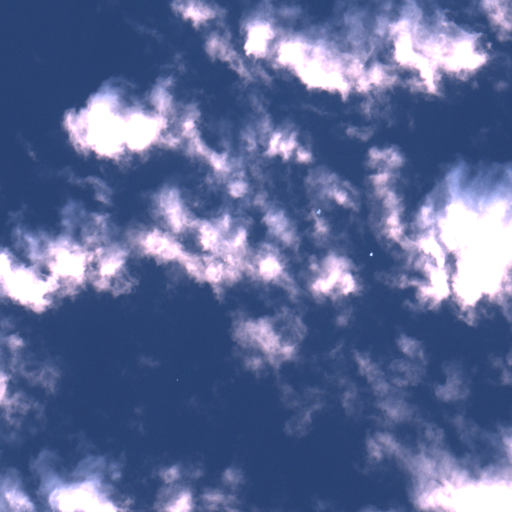Iceberg: (316, 209, 320, 213), (369, 252, 372, 256), (176, 378, 178, 380)
